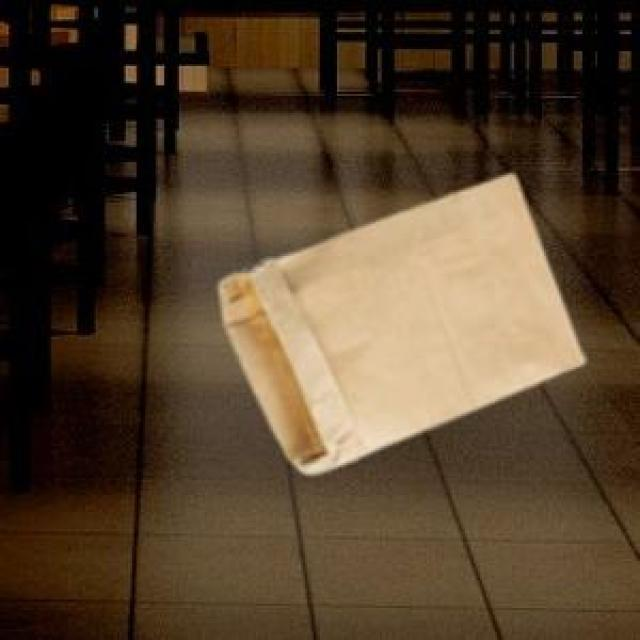paper: (216, 171, 580, 469)
